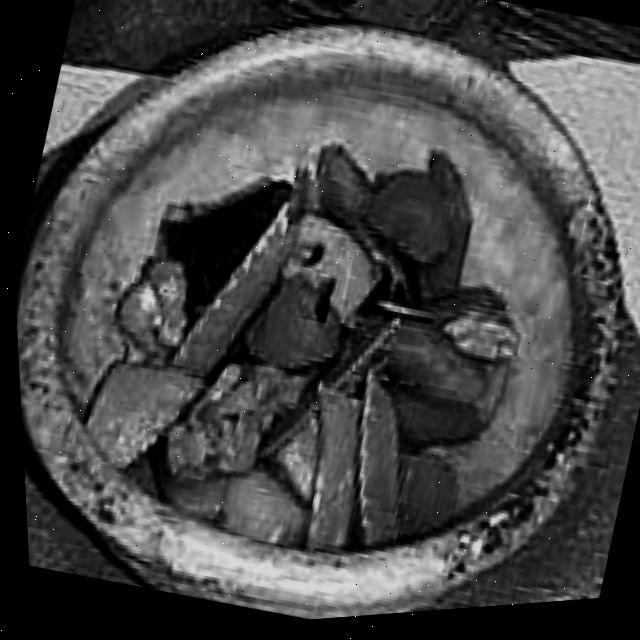鸡肉料理 含炸鸡: (39, 53, 590, 628)
